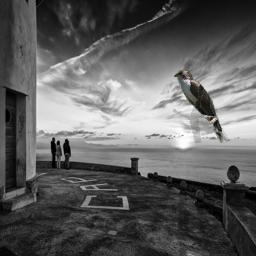Cuckoo: (173, 70, 228, 143)
